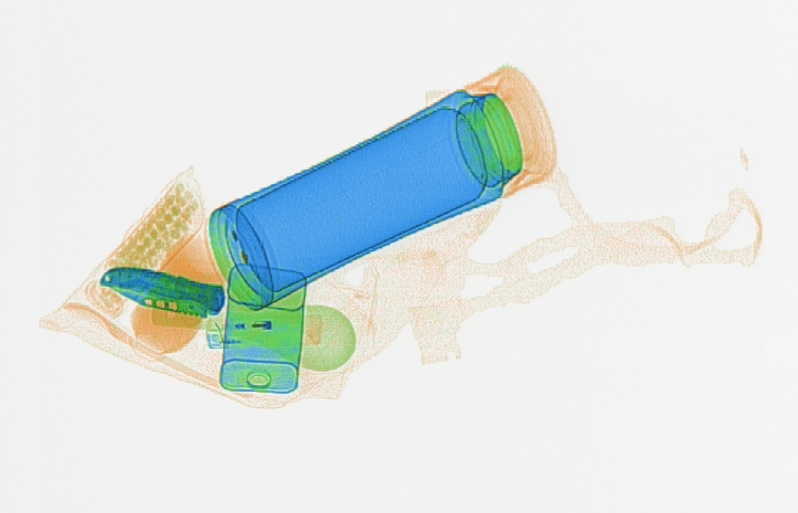knife: (98, 264, 224, 320)
lighter: (200, 312, 322, 349)
zippooil: (217, 258, 305, 392)
